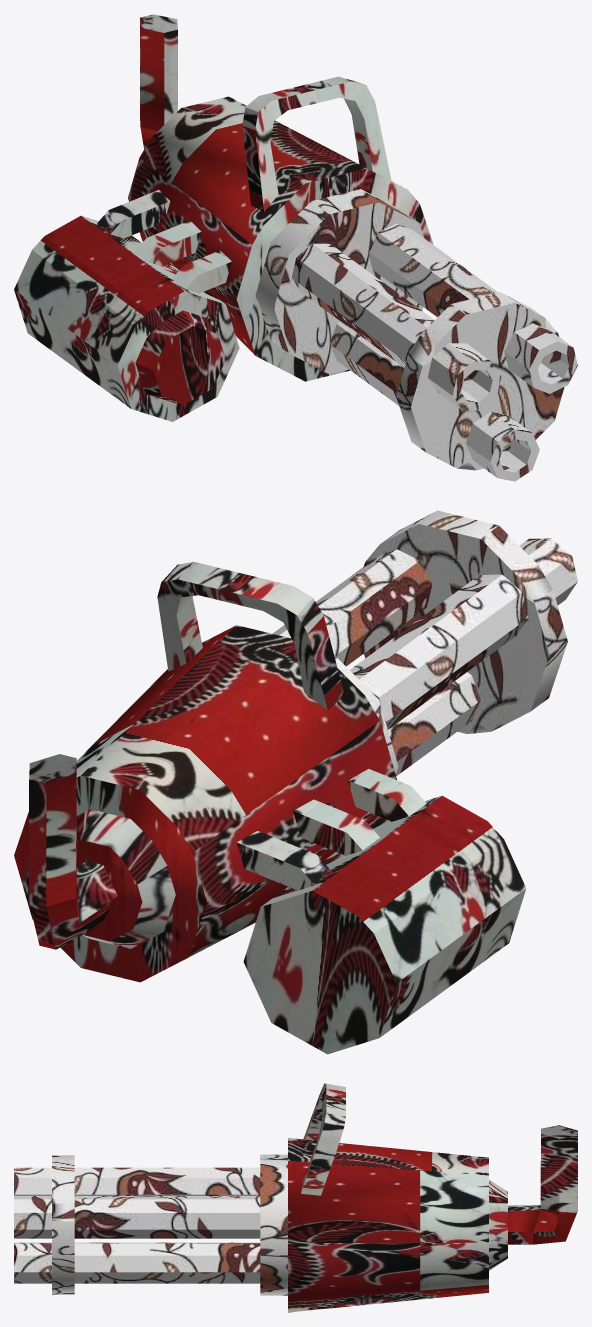
The model's file is Minigun batik new.fbx.
The picture shows the model from 3 angles, top to bottom: view 1: azimuth 30°, elevation 25°; view 2: azimuth 150°, elevation 25°; view 3: azimuth 270°, elevation 25°; orthographic projection. The views are drawn at different scales.
Parts seen in each view (by area): view 1: Minigun_mesh_v3, Minigun_barrel_v3; view 2: Minigun_mesh_v3, Minigun_barrel_v3; view 3: Minigun_mesh_v3, Minigun_barrel_v3.
Part boxes in pixels (left/top/right/bottom): Minigun_mesh_v3: left=14, top=14, right=433, bottom=421; Minigun_barrel_v3: left=255, top=189, right=577, bottom=481; Minigun_mesh_v3: left=14, top=562, right=526, bottom=1054; Minigun_barrel_v3: left=272, top=510, right=577, bottom=776; Minigun_mesh_v3: left=288, top=1083, right=577, bottom=1312; Minigun_barrel_v3: left=14, top=1154, right=287, bottom=1295.
Bounding box in the file's own units: 19.67 × 17.12 × 40.61.
2 materials, 2 textured.
